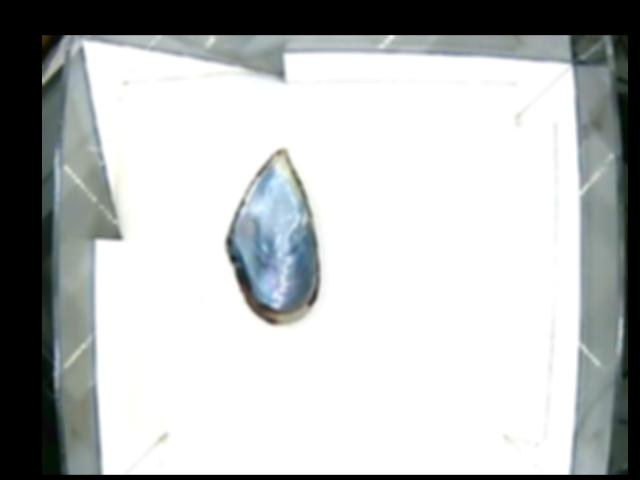Shell: (226, 146, 320, 325)
